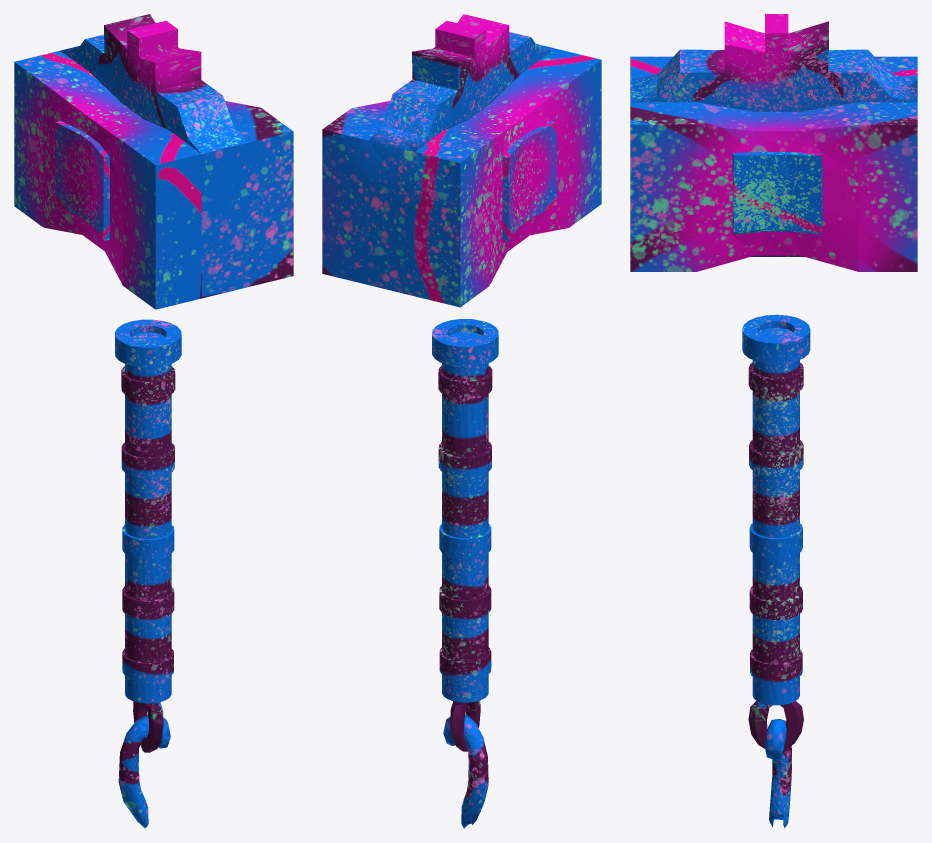
The model's file is MAS_1 - QIZ04 - Textured Hammer.obj.
3 views of the same model, side by side, from view 1: azimuth 30°, elevation 25°; view 2: azimuth 150°, elevation 25°; view 3: azimuth 270°, elevation 25° (orthographic).
Visible parts, largest first — view 1: Hammer_(Custom)_Hammer.001; view 2: Hammer_(Custom)_Hammer.001; view 3: Hammer_(Custom)_Hammer.001.
Part boxes in pixels (left/top/right/bottom): Hammer_(Custom)_Hammer.001: left=14, top=14, right=293, bottom=828; Hammer_(Custom)_Hammer.001: left=322, top=14, right=601, bottom=828; Hammer_(Custom)_Hammer.001: left=630, top=14, right=917, bottom=828.
Size of the model in its own units: 1.05 by 5.51 by 1.77.
Materials: 1 (1 with a texture image).
